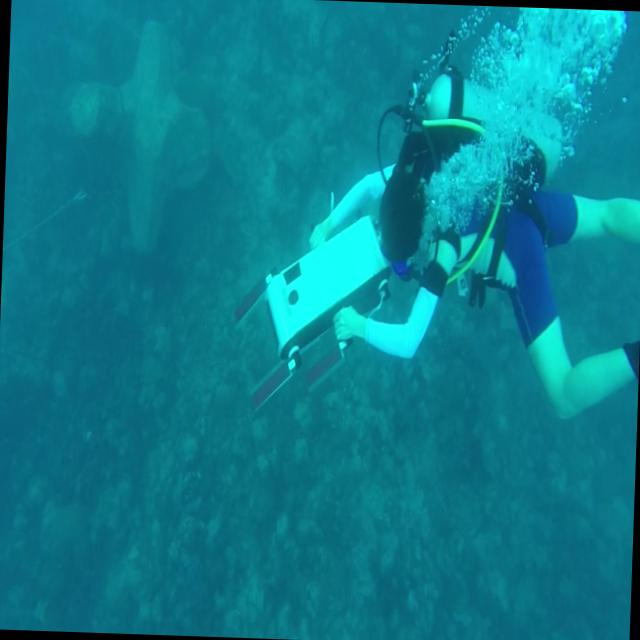human: (303, 60, 640, 423)
